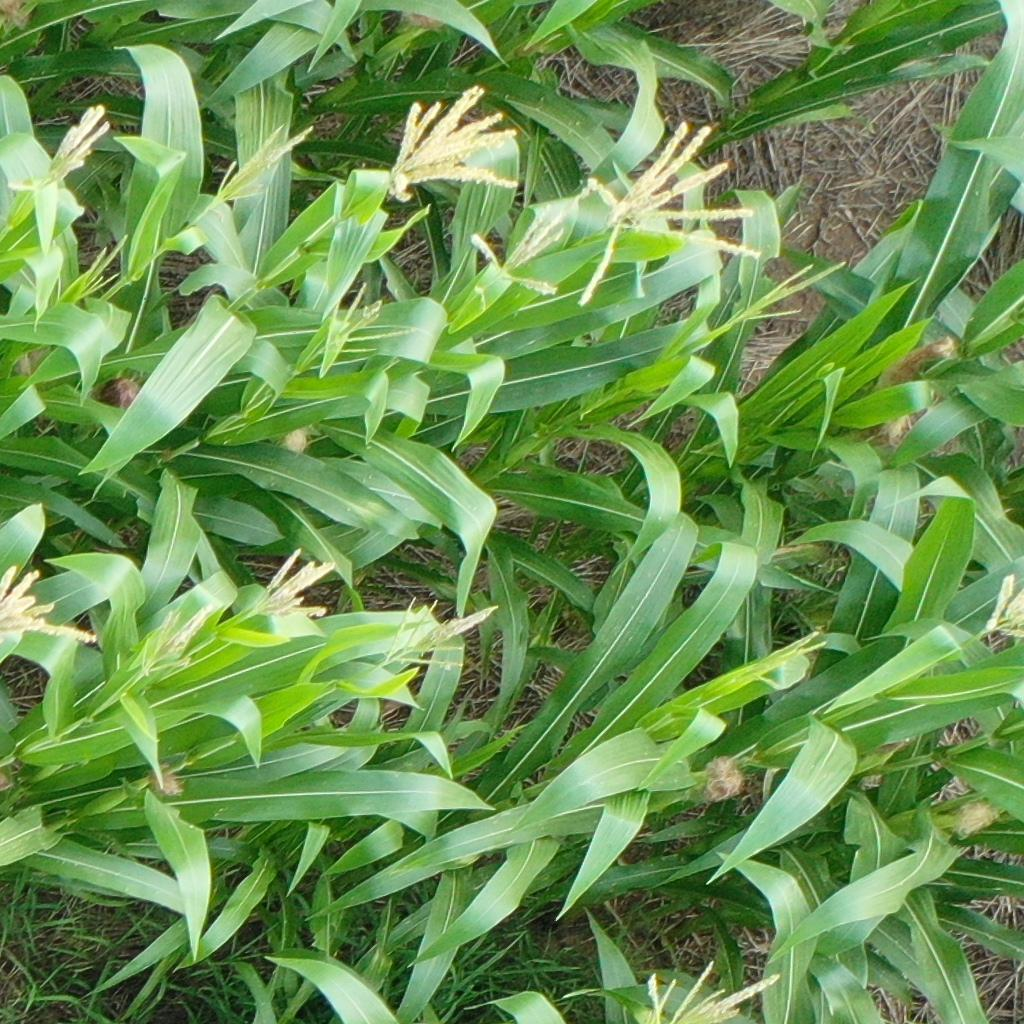Tassel: (578, 118, 760, 307), (376, 84, 521, 202), (468, 188, 592, 304), (383, 596, 499, 671), (644, 960, 779, 1024), (215, 123, 313, 207), (1, 567, 99, 648), (731, 259, 849, 325), (240, 545, 336, 622), (322, 282, 416, 358), (38, 105, 113, 188), (146, 602, 215, 667), (75, 232, 130, 303), (761, 631, 826, 677), (985, 575, 1024, 639)
